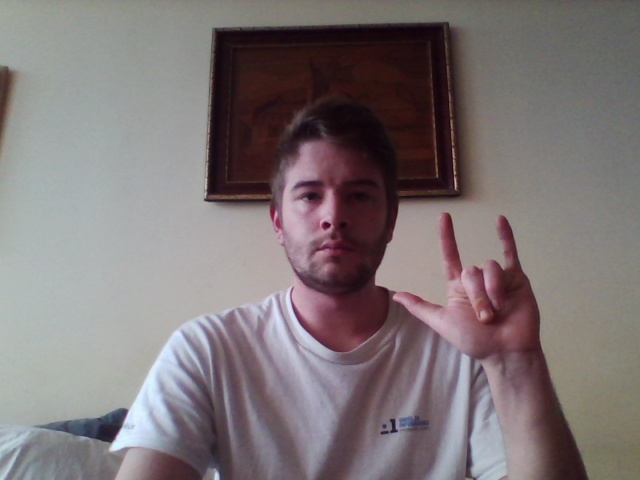volimte: (391, 212, 543, 359)
